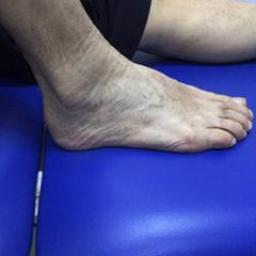Lateral View -Right Foot-: (8, 47, 254, 163)
